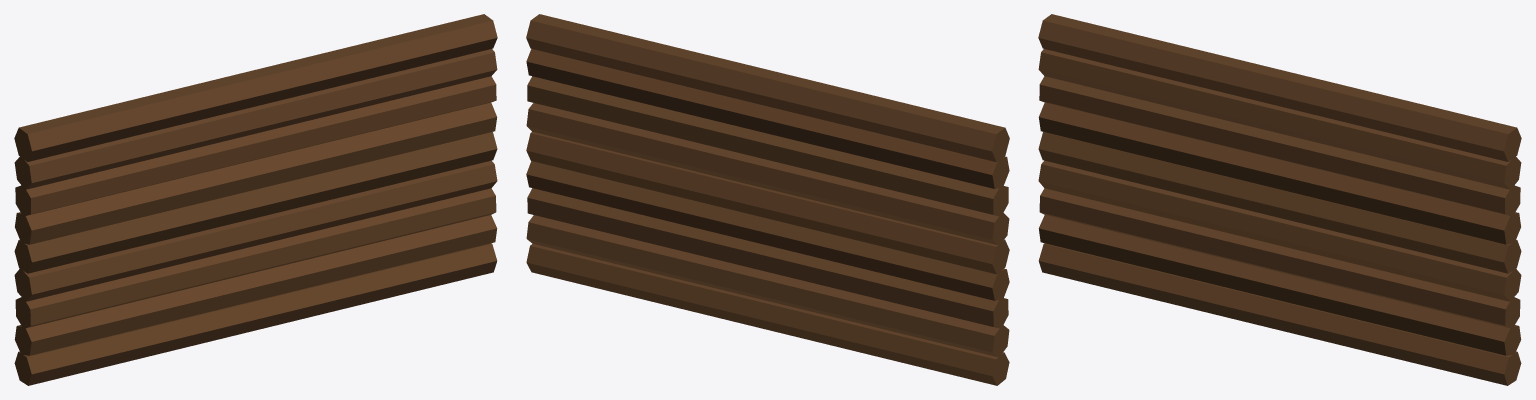
The model's file is wood_wall.glb.
The picture shows the model from 3 angles, left to right: view 1: azimuth 30°, elevation 25°; view 2: azimuth 150°, elevation 25°; view 3: azimuth 330°, elevation 25°; orthographic projection.
Parts seen in each view (by area): view 1: WoodWall; view 2: WoodWall; view 3: WoodWall.
Part boxes in pixels (x1,y1,x2,y2): WoodWall: (14, 14, 497, 385); WoodWall: (526, 14, 1009, 385); WoodWall: (1038, 14, 1521, 385).
Bounding box in the file's own units: 4.65 × 2.41 × 0.3086.
